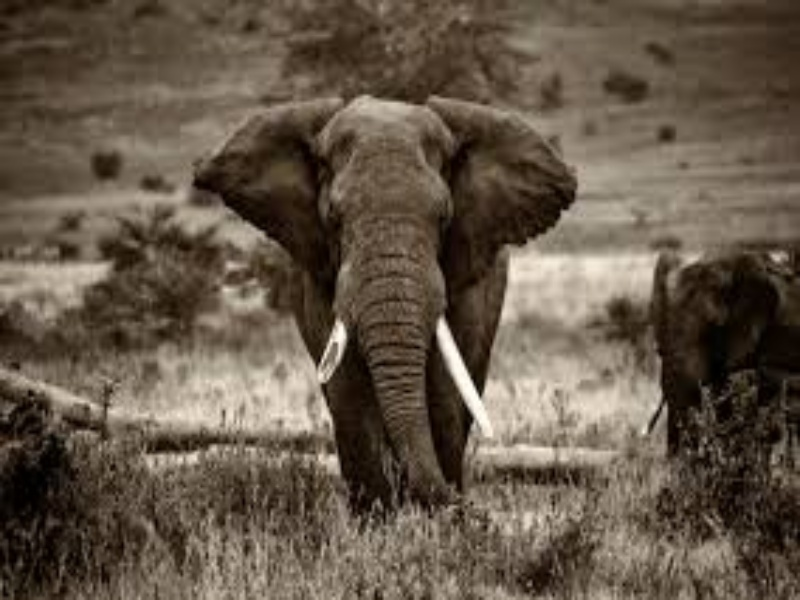elephant: (187, 93, 792, 516)
